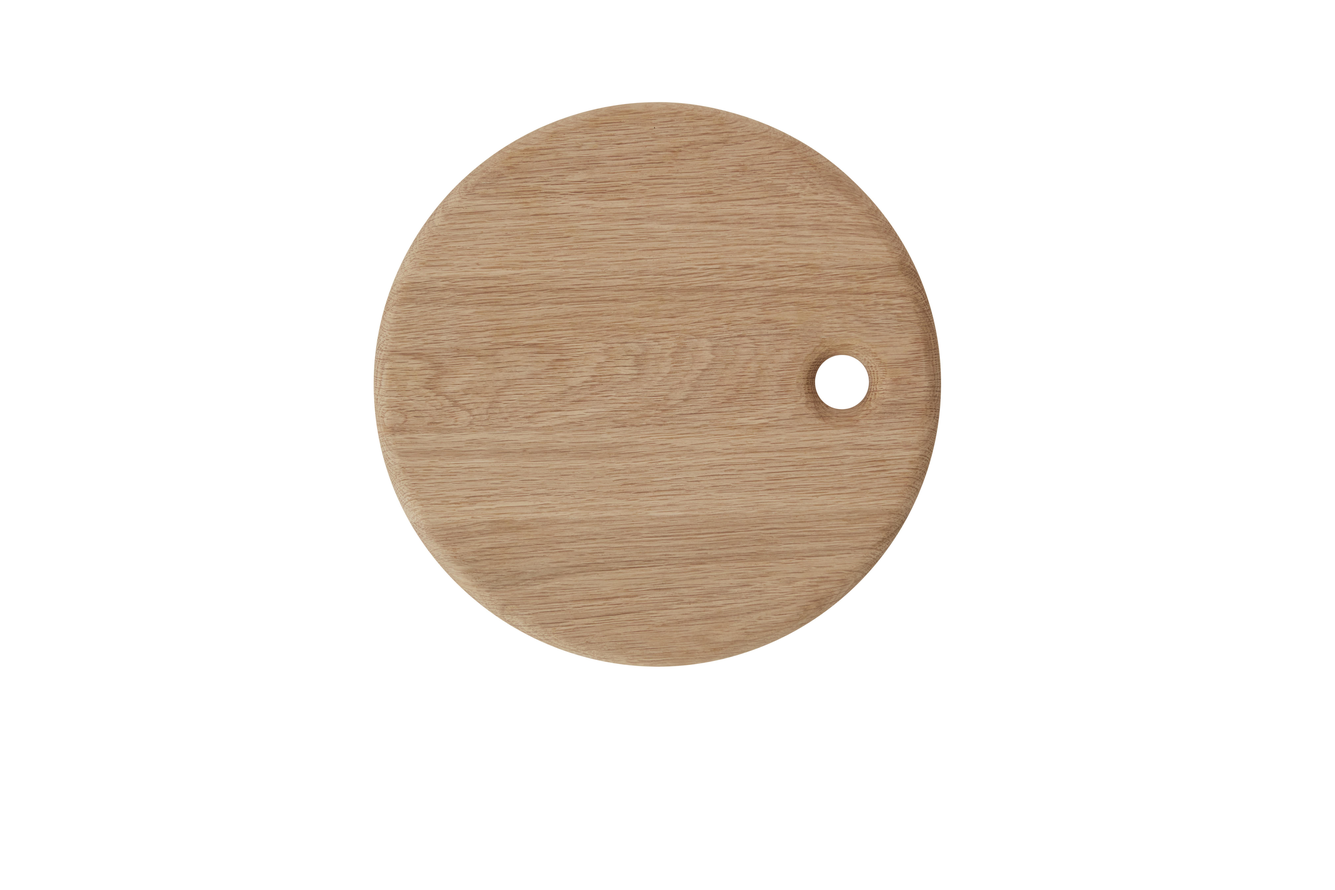gloved_hand: (354, 93, 956, 675)
